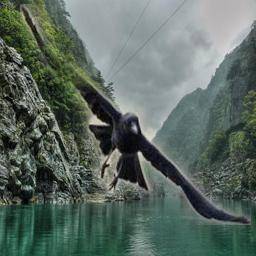Crow: (20, 4, 251, 225)
